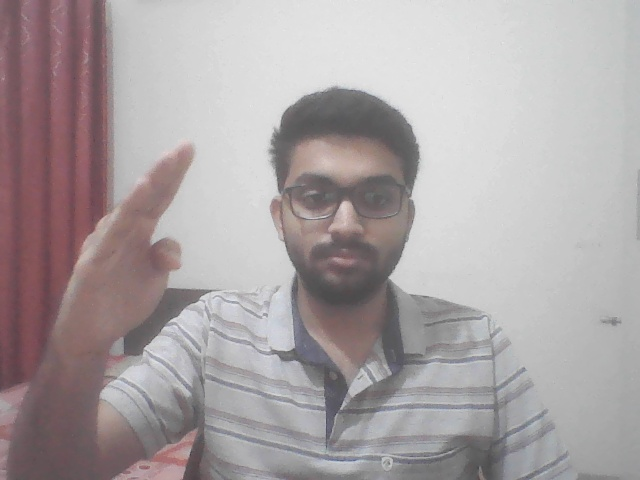hello: (37, 133, 205, 408)
